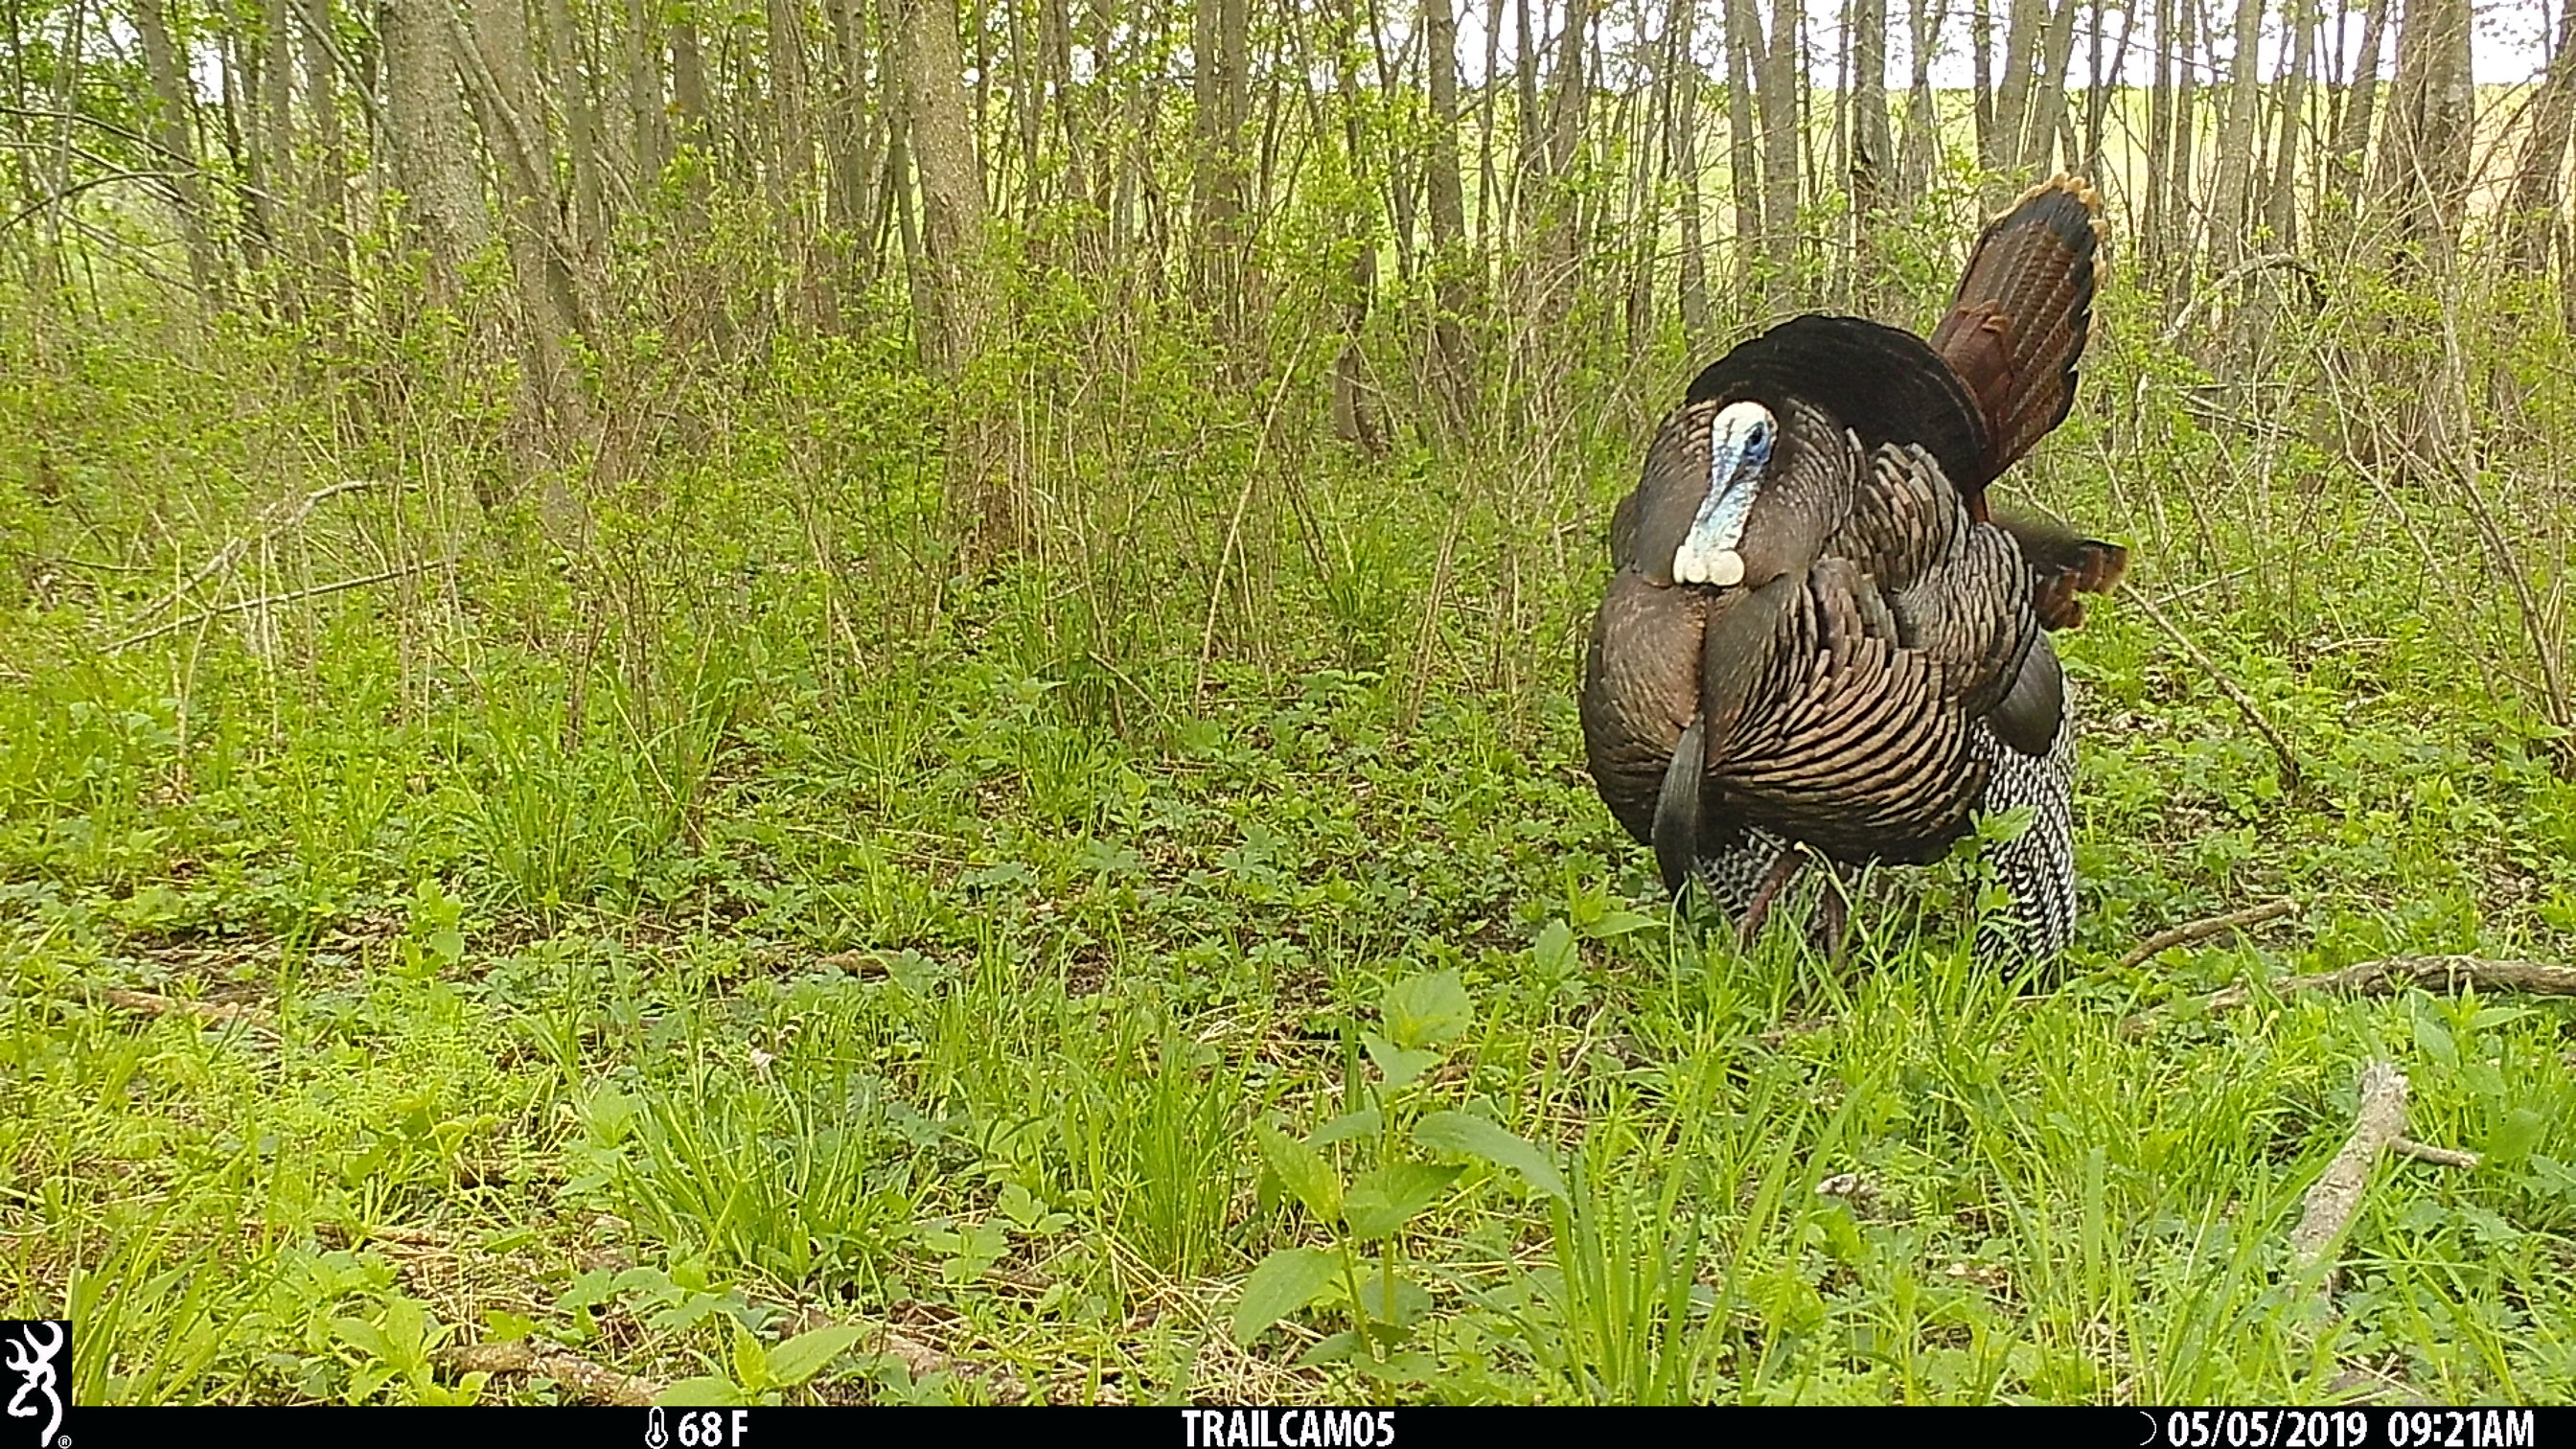Turkey: (1573, 170, 2134, 975)
